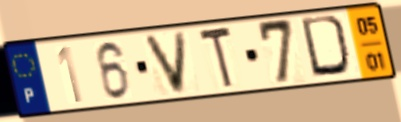1: (55, 45, 85, 103)
6: (94, 39, 134, 101)
7: (255, 17, 298, 88)
D: (298, 13, 356, 80)
T: (196, 23, 236, 93)
V: (140, 29, 189, 97)
